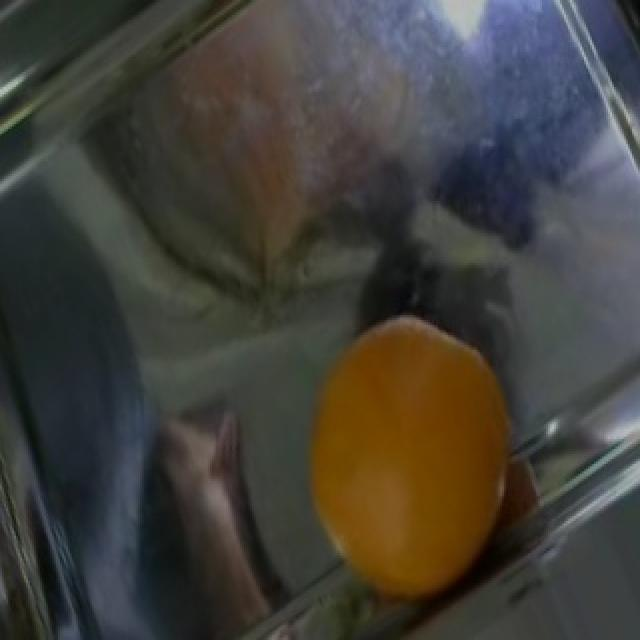Fruit: (284, 298, 532, 628), (110, 390, 286, 638)
